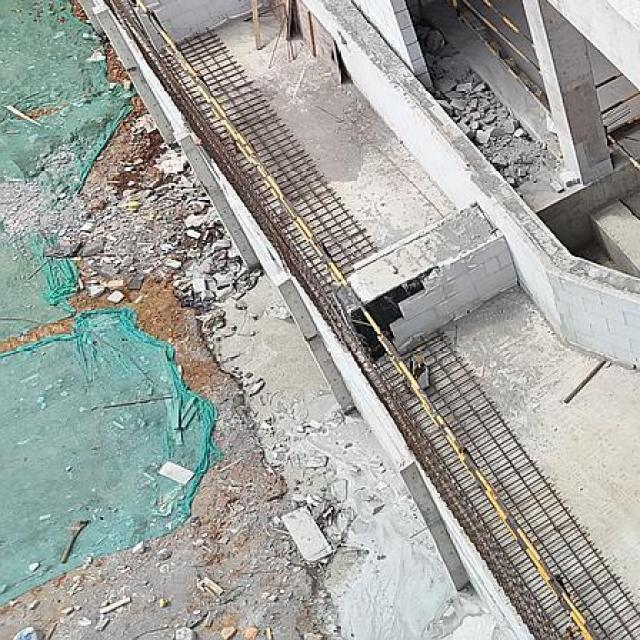Guardrail: (134, 4, 597, 640), (450, 0, 550, 116), (595, 73, 640, 116), (607, 134, 640, 172)
